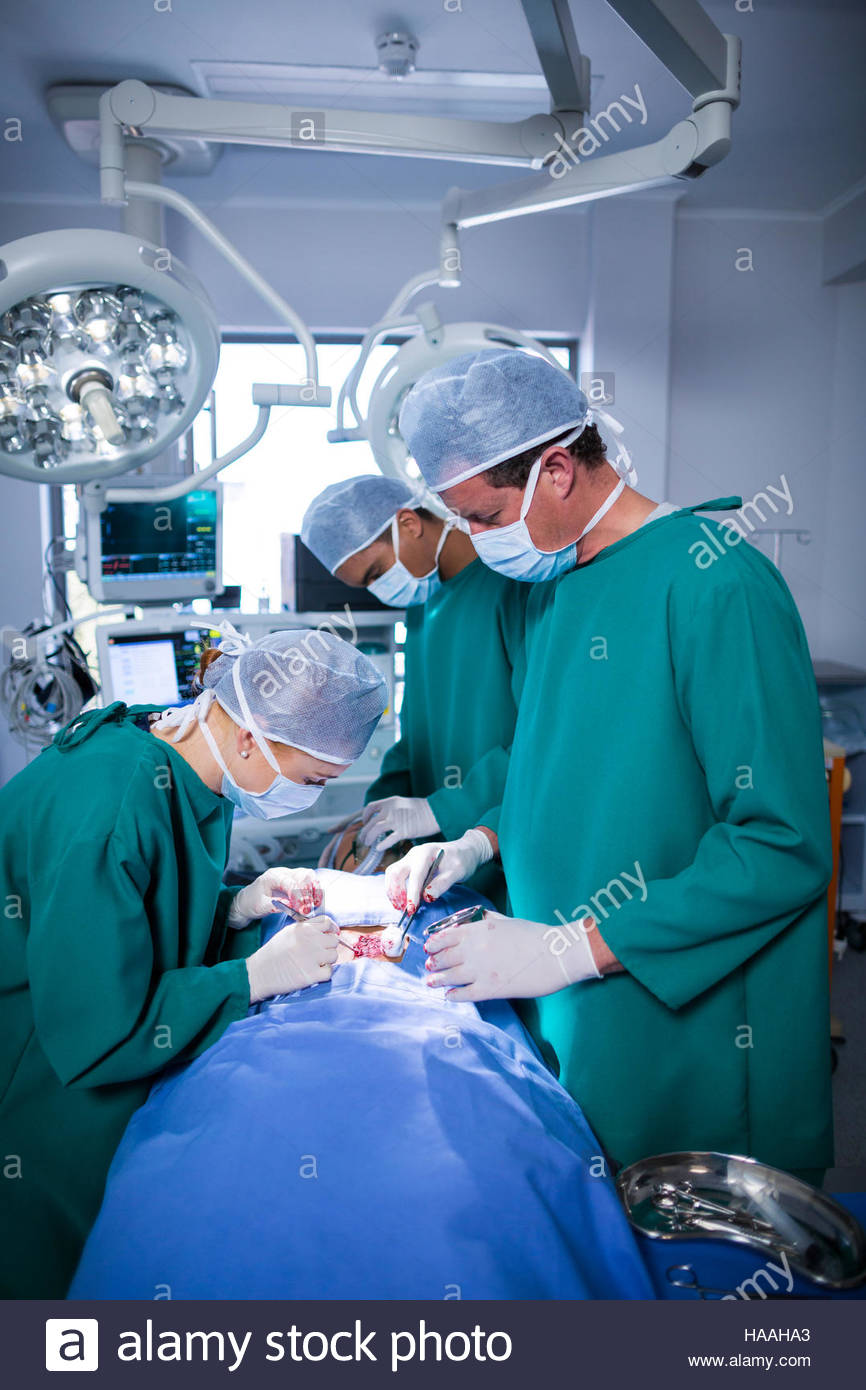Gloves: (425, 905, 608, 1019), (242, 918, 350, 1009), (385, 830, 499, 912), (217, 859, 337, 930), (352, 791, 455, 849)
with_mask: (462, 496, 596, 588), (228, 740, 342, 826), (356, 548, 443, 610)
